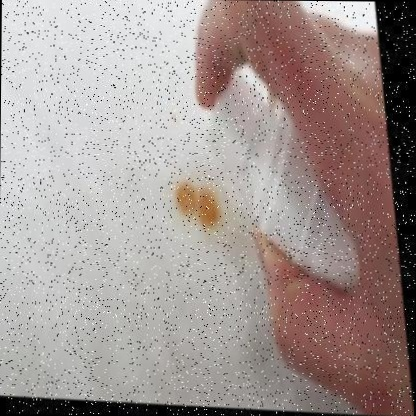kimchi: (176, 185, 217, 233)
